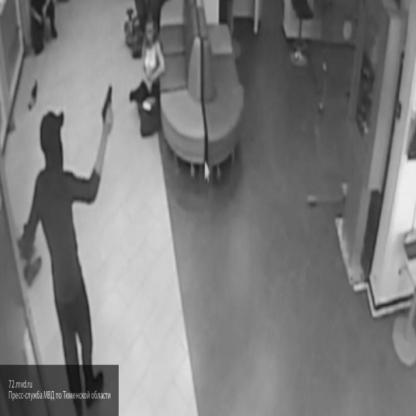pistols: (98, 82, 117, 128)
